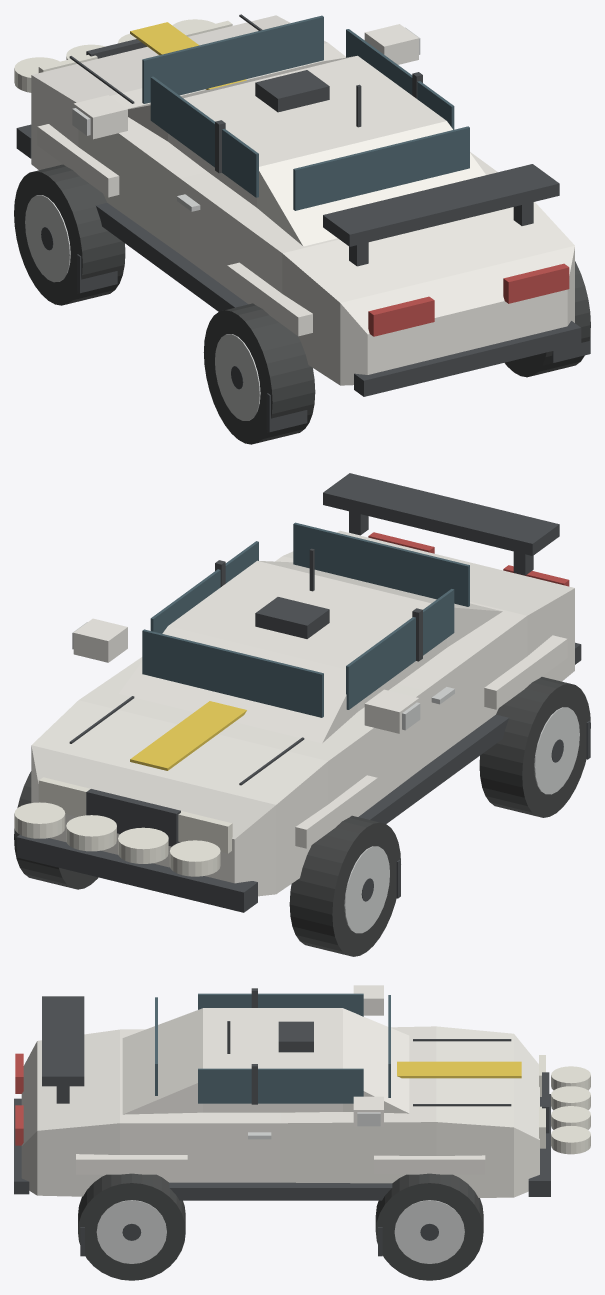
The model's file is audi_rally.glb.
3 views of the same model, one above another, from view 1: azimuth 30°, elevation 25°; view 2: azimuth 150°, elevation 25°; view 3: azimuth 270°, elevation 25° (orthographic). The views are drawn at different scales.
Parts seen in each view (by area): view 1: Sculpted lower monocoque, Sloped cabin shell, Tire -1 1, Group B high rear wing, Tire -1 0, Windshield, Rear window, Rear diffuser, Side glass -1, Wide sill -1, Alloy wheel -1 0, Alloy wheel -1 1 (+14 smaller); view 2: Sculpted lower monocoque, Sloped cabin shell, Tire -1 0, Tire -1 1, Group B high rear wing, Windshield, Rear window, Front air dam, Side glass -1, Wide sill -1, Yellow bonnet stripe, Alloy wheel -1 1 (+15 smaller); view 3: Sculpted lower monocoque, Sloped cabin shell, Tire 1 1, Tire 1 0, Side glass 1, Wide sill 1, Group B high rear wing, Alloy wheel 1 0, Alloy wheel 1 1, Side glass -1, Fender flare 1 1.27, Yellow bonnet stripe (+11 smaller).
Boxes of the visible parts, x1,y1,x2,y2 form: Sculpted lower monocoque: [31, 15, 574, 385]; Sloped cabin shell: [128, 55, 485, 246]; Tire -1 1: [203, 303, 315, 444]; Group B high rear wing: [323, 164, 559, 246]; Tire -1 0: [14, 164, 125, 305]; Windshield: [142, 15, 323, 103]; Rear window: [293, 126, 469, 210]; Rear diffuser: [354, 321, 581, 396]; Side glass -1: [150, 76, 258, 197]; Wide sill -1: [96, 203, 248, 311]; Alloy wheel -1 0: [25, 195, 70, 282]; Alloy wheel -1 1: [215, 334, 260, 420]; Sculpted lower monocoque: [31, 530, 574, 896]; Sloped cabin shell: [119, 560, 502, 743]; Tire -1 0: [289, 815, 400, 956]; Tire -1 1: [479, 677, 590, 817]; Group B high rear wing: [323, 473, 559, 555]; Windshield: [142, 629, 323, 717]; Rear window: [293, 522, 469, 606]; Front air dam: [16, 835, 257, 912]; Side glass -1: [346, 589, 454, 709]; Wide sill -1: [358, 714, 508, 823]; Yellow bonnet stripe: [130, 701, 246, 770]; Alloy wheel -1 1: [534, 707, 579, 794]; Sculpted lower monocoque: [21, 1026, 539, 1197]; Sloped cabin shell: [122, 1008, 409, 1114]; Tire 1 1: [78, 1173, 185, 1280]; Tire 1 0: [375, 1173, 483, 1280]; Side glass 1: [198, 1068, 363, 1103]; Wide sill 1: [169, 1182, 392, 1200]; Group B high rear wing: [42, 996, 84, 1086]; Alloy wheel 1 0: [394, 1200, 464, 1263]; Alloy wheel 1 1: [96, 1200, 166, 1263]; Side glass -1: [198, 993, 363, 1016]; Fender flare 1 1.27: [76, 1154, 187, 1174]; Yellow bonnet stripe: [397, 1061, 521, 1078].
Size of the model in its own units: 2.58 by 1.95 by 4.92.
